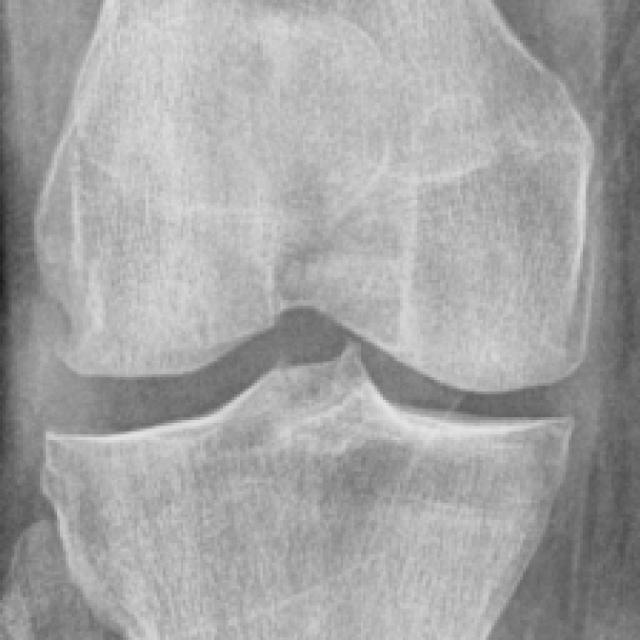femur: (40, 1, 586, 386)
tibia: (46, 351, 569, 637)
